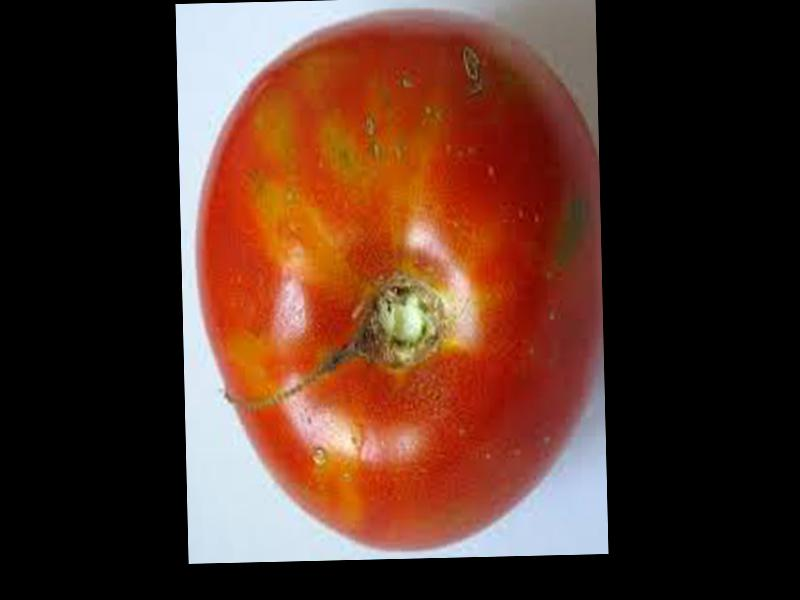Tomato: (191, 8, 606, 558)
